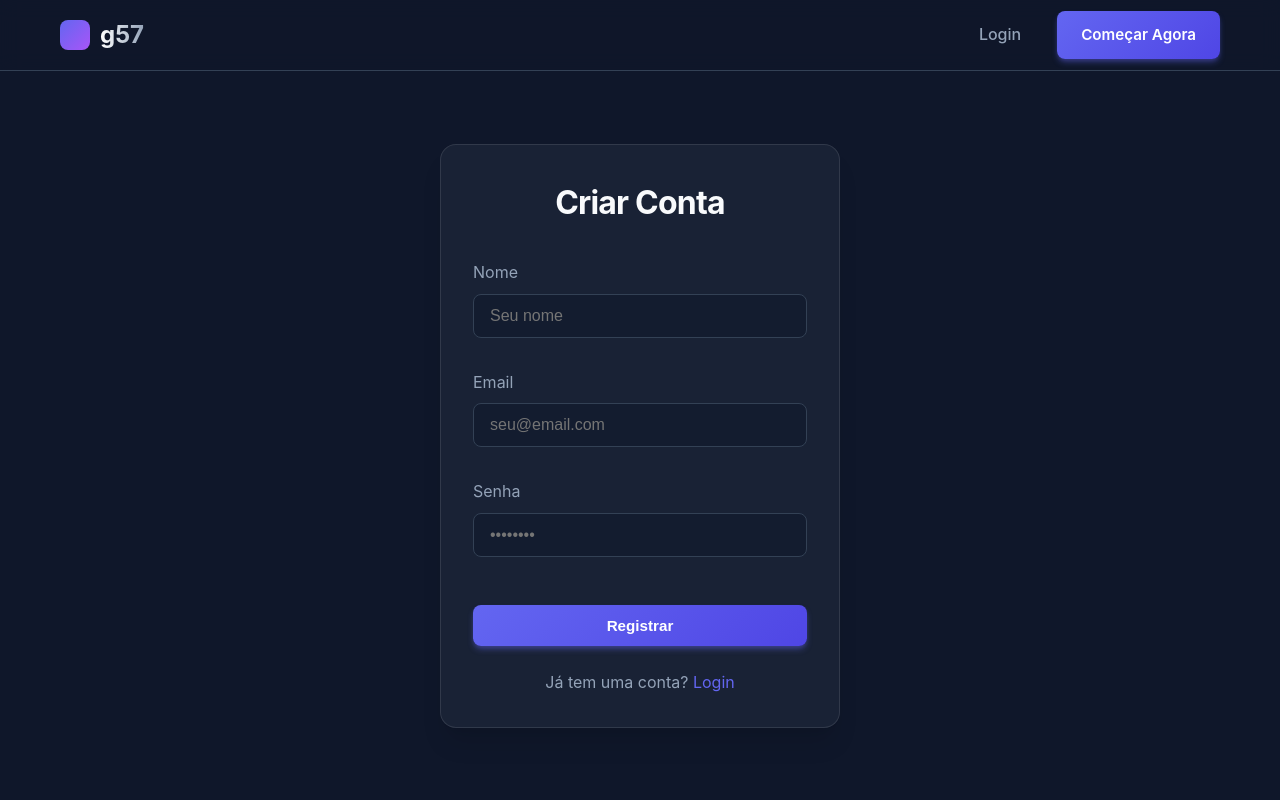
RegisterPage › shows error message on registration failure
The width and height of the screenshot is (1280, 800).
Type "Bob" into the field with placeholder "Seu nome" at coordinates (640, 316), box [473, 294, 807, 338]
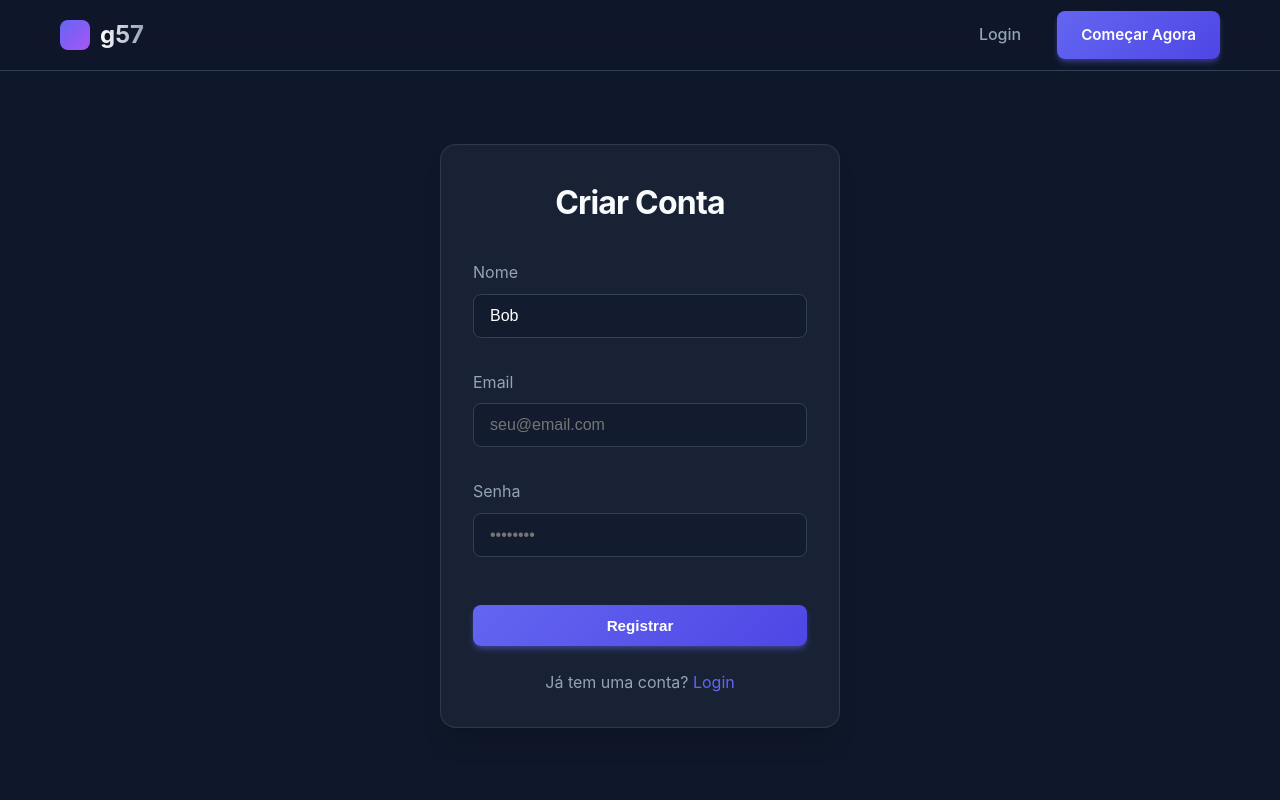
Type "b@c.com" into the field with placeholder "seu@email.com" at coordinates (640, 425), box [473, 403, 807, 447]
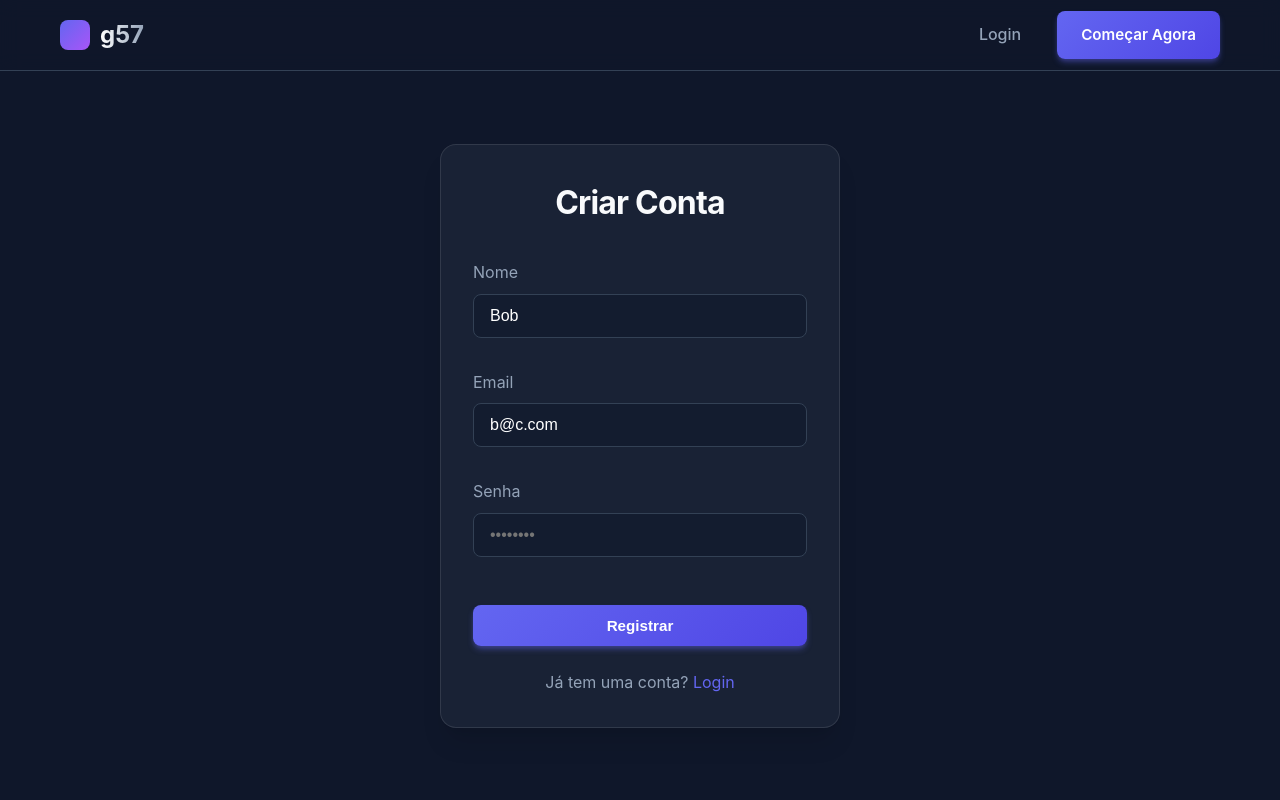
Type "123456" into the password field with placeholder "••••••••" at coordinates (640, 535), box [473, 513, 807, 557]
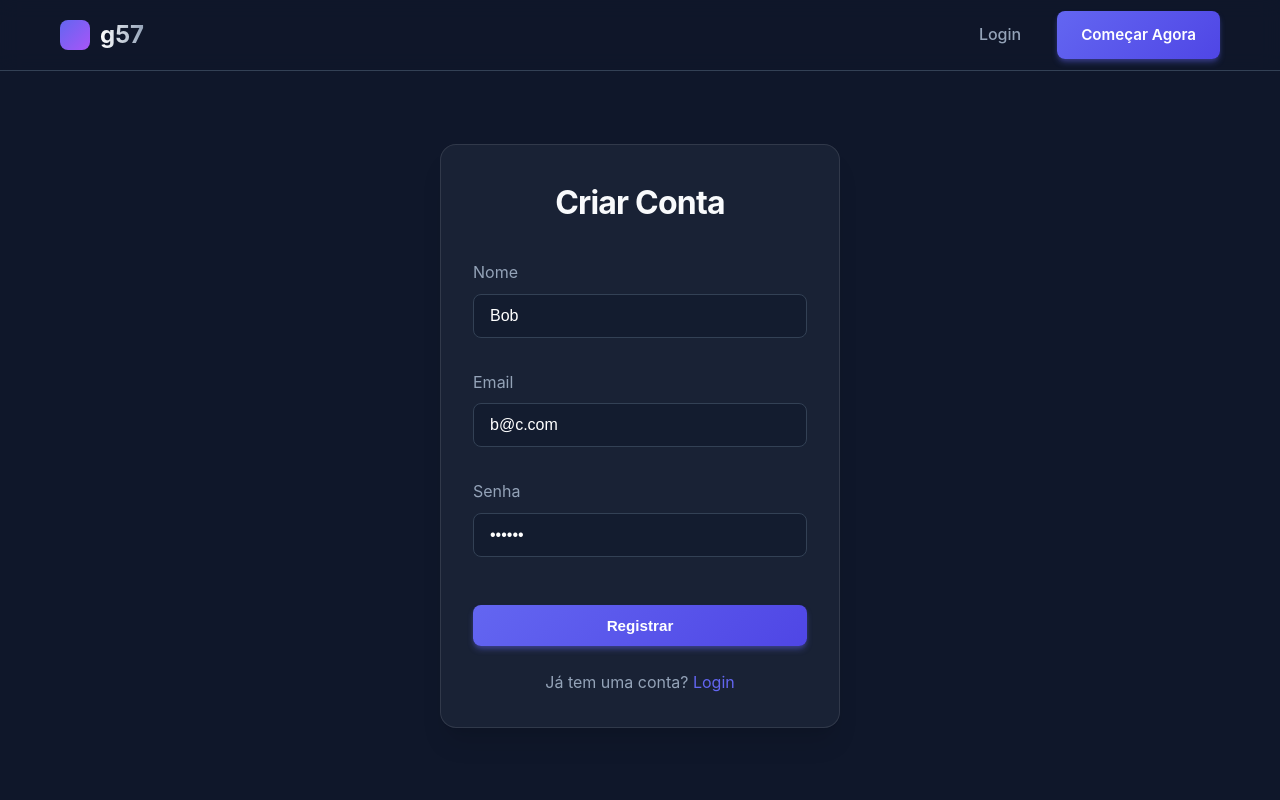
Submit the form from the button "Registrar", box [473, 605, 807, 646]
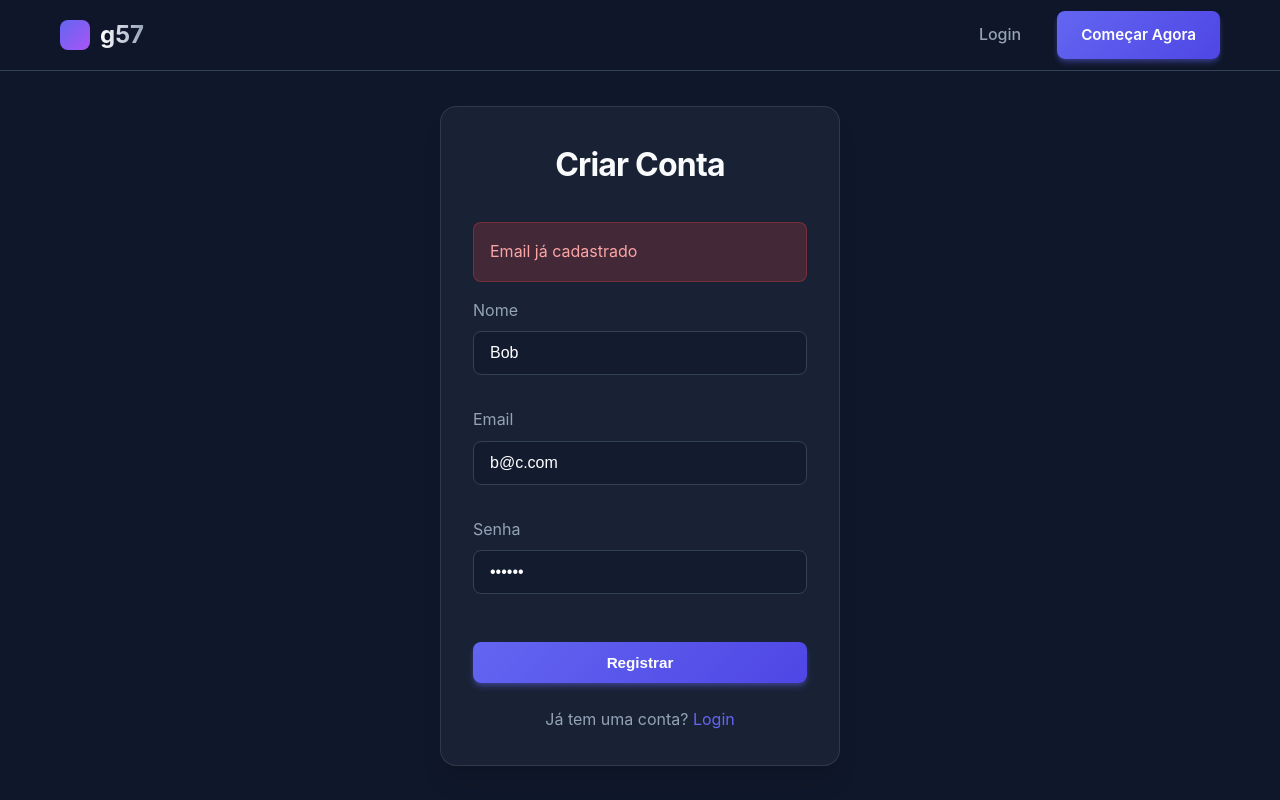
Expected: the text "Email já cadastrado" is shown, [473, 222, 807, 282]
